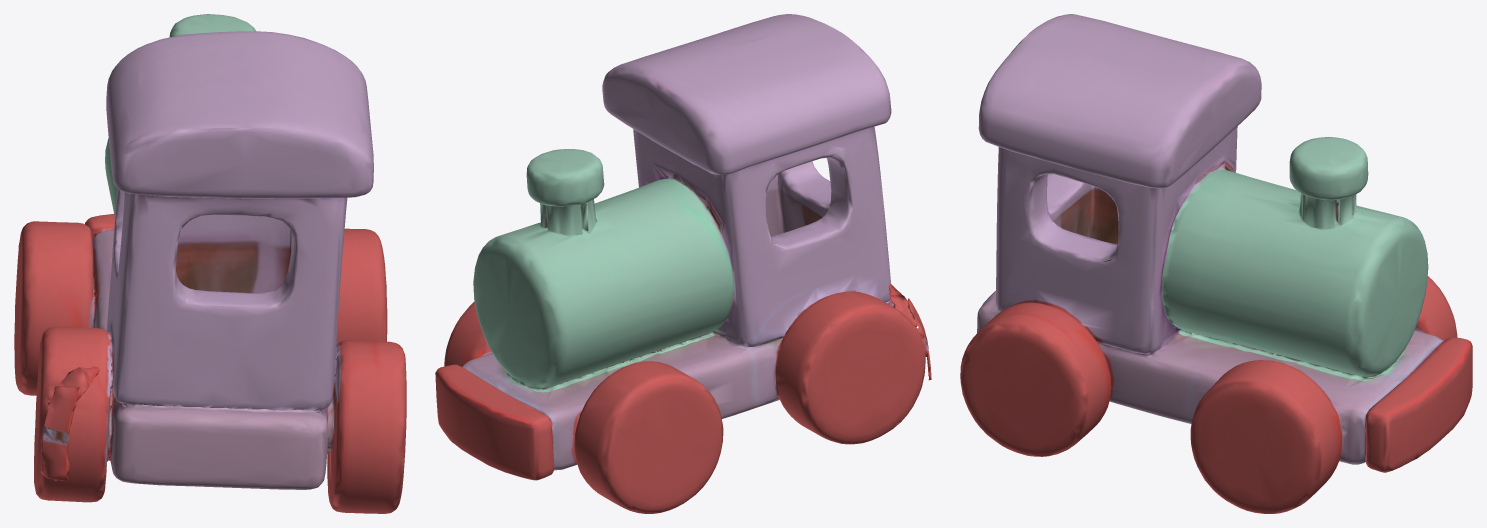
The picture shows the model from 3 angles, left to right: view 1: azimuth 30°, elevation 25°; view 2: azimuth 150°, elevation 25°; view 3: azimuth 270°, elevation 25°; orthographic projection. The views are drawn at different scales.
Visible parts, largest first — view 1: repaired; view 2: repaired; view 3: repaired.
Part boxes in pixels (<box>): repaired: <box>14,14,406,513</box>; repaired: <box>435,14,931,513</box>; repaired: <box>960,14,1472,513</box>.
Bounding box in the file's own units: 0.8796 × 0.7964 × 0.9994.
Materials: 1 (1 with a texture image).
